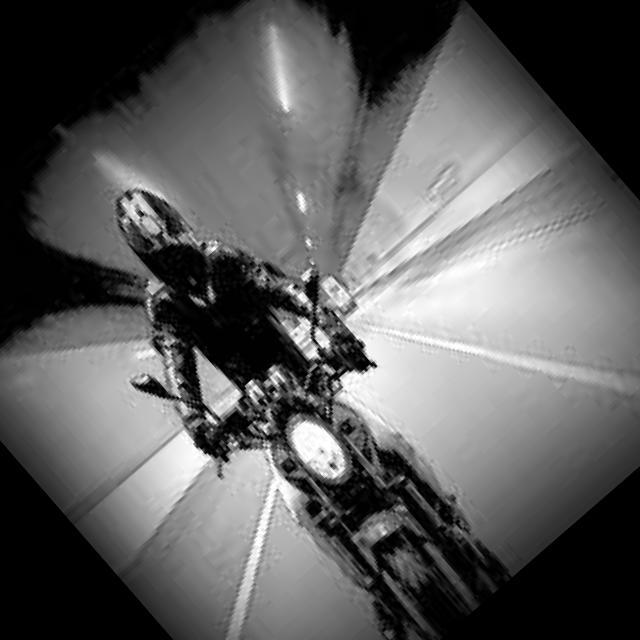WITH_HELMET: (104, 174, 218, 294)
